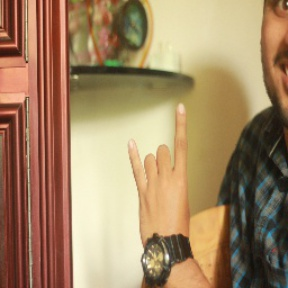V: (124, 101, 202, 246)
